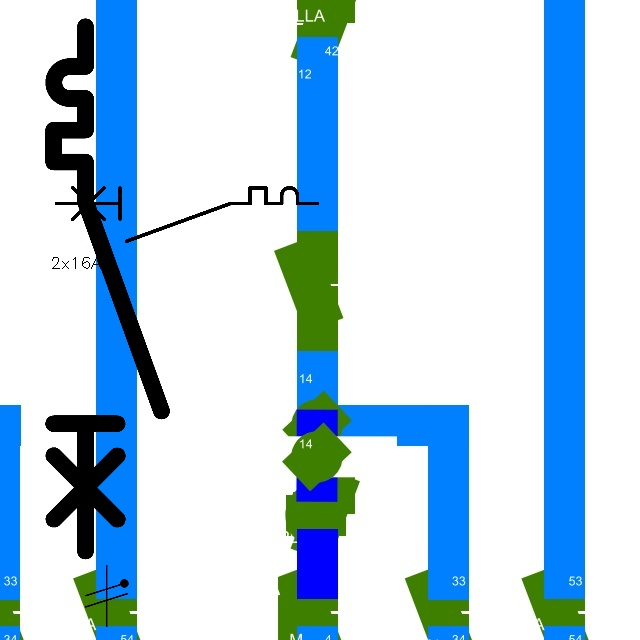interruptor_termomagnetico: (40, 13, 175, 565), (50, 181, 324, 248)
